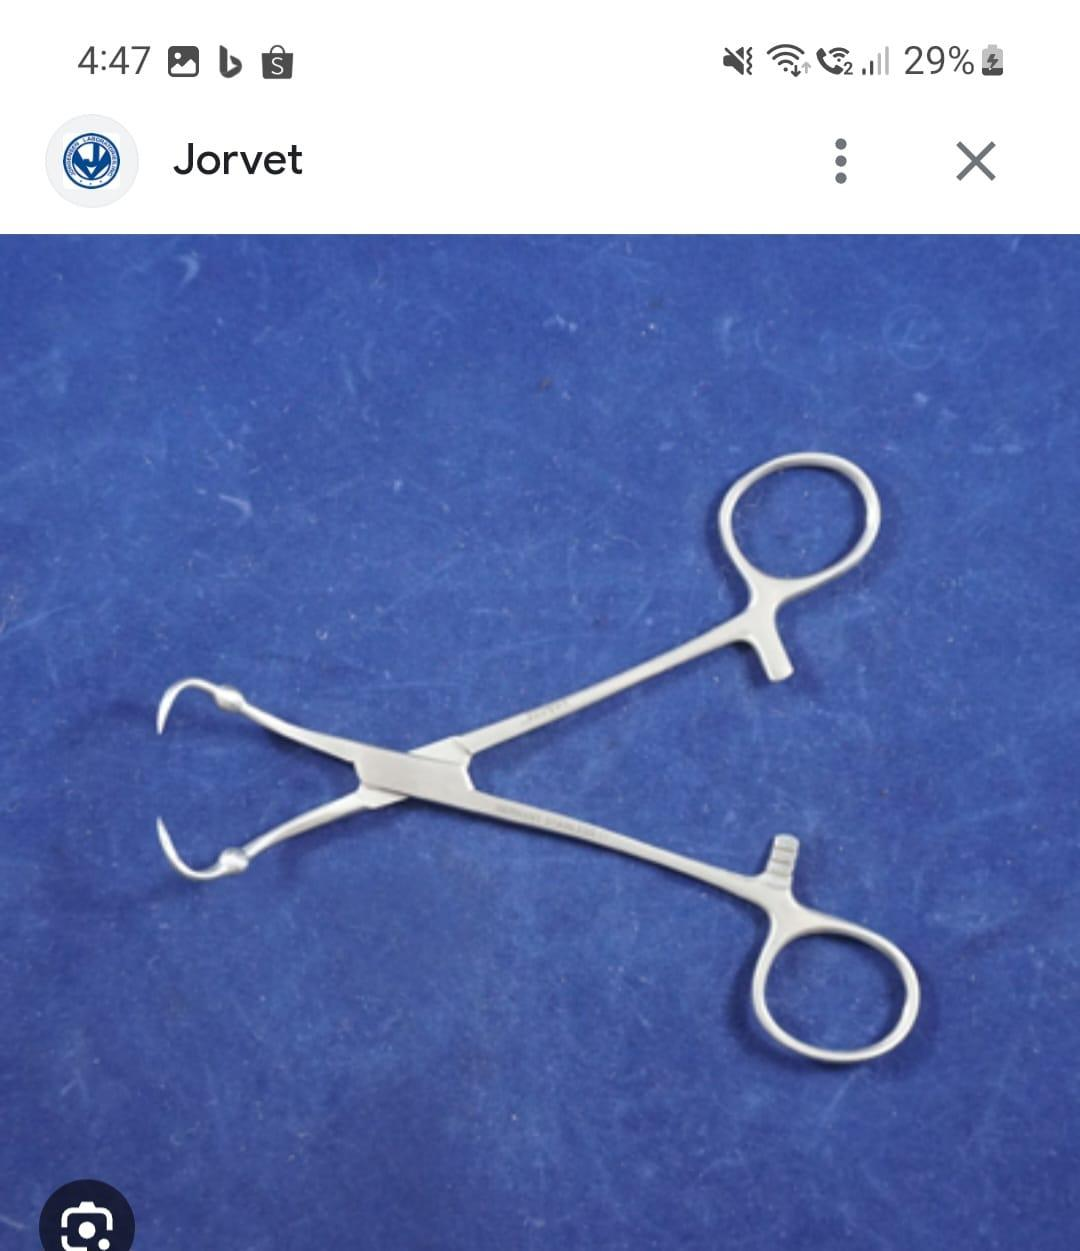Backhaus Towel Clamp: (130, 428, 944, 1082)
